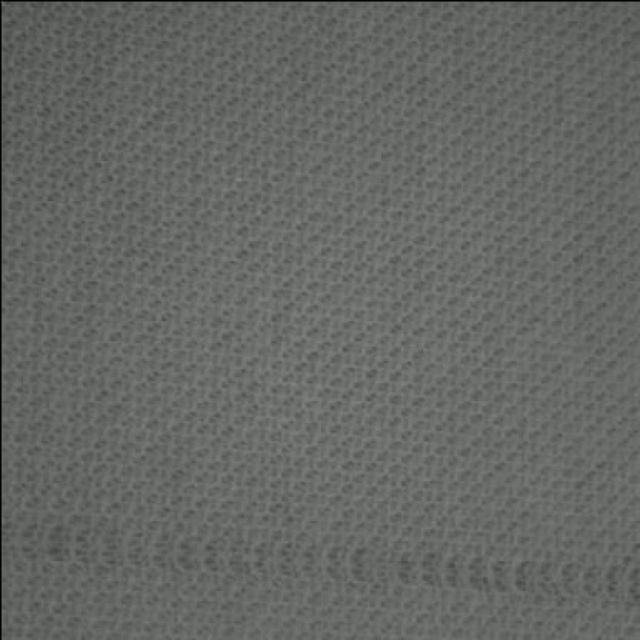Line: (0, 516, 640, 609)
